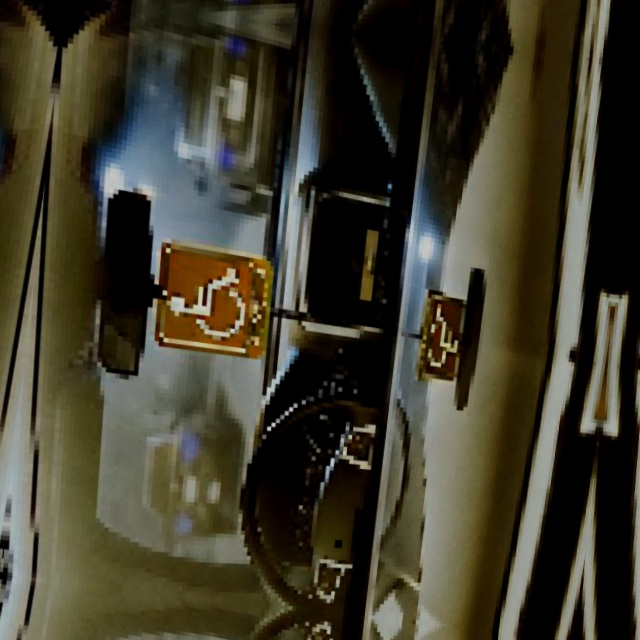ISA: (158, 255, 250, 343), (420, 298, 463, 375)
